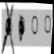not correct: (0, 1, 17, 54)
